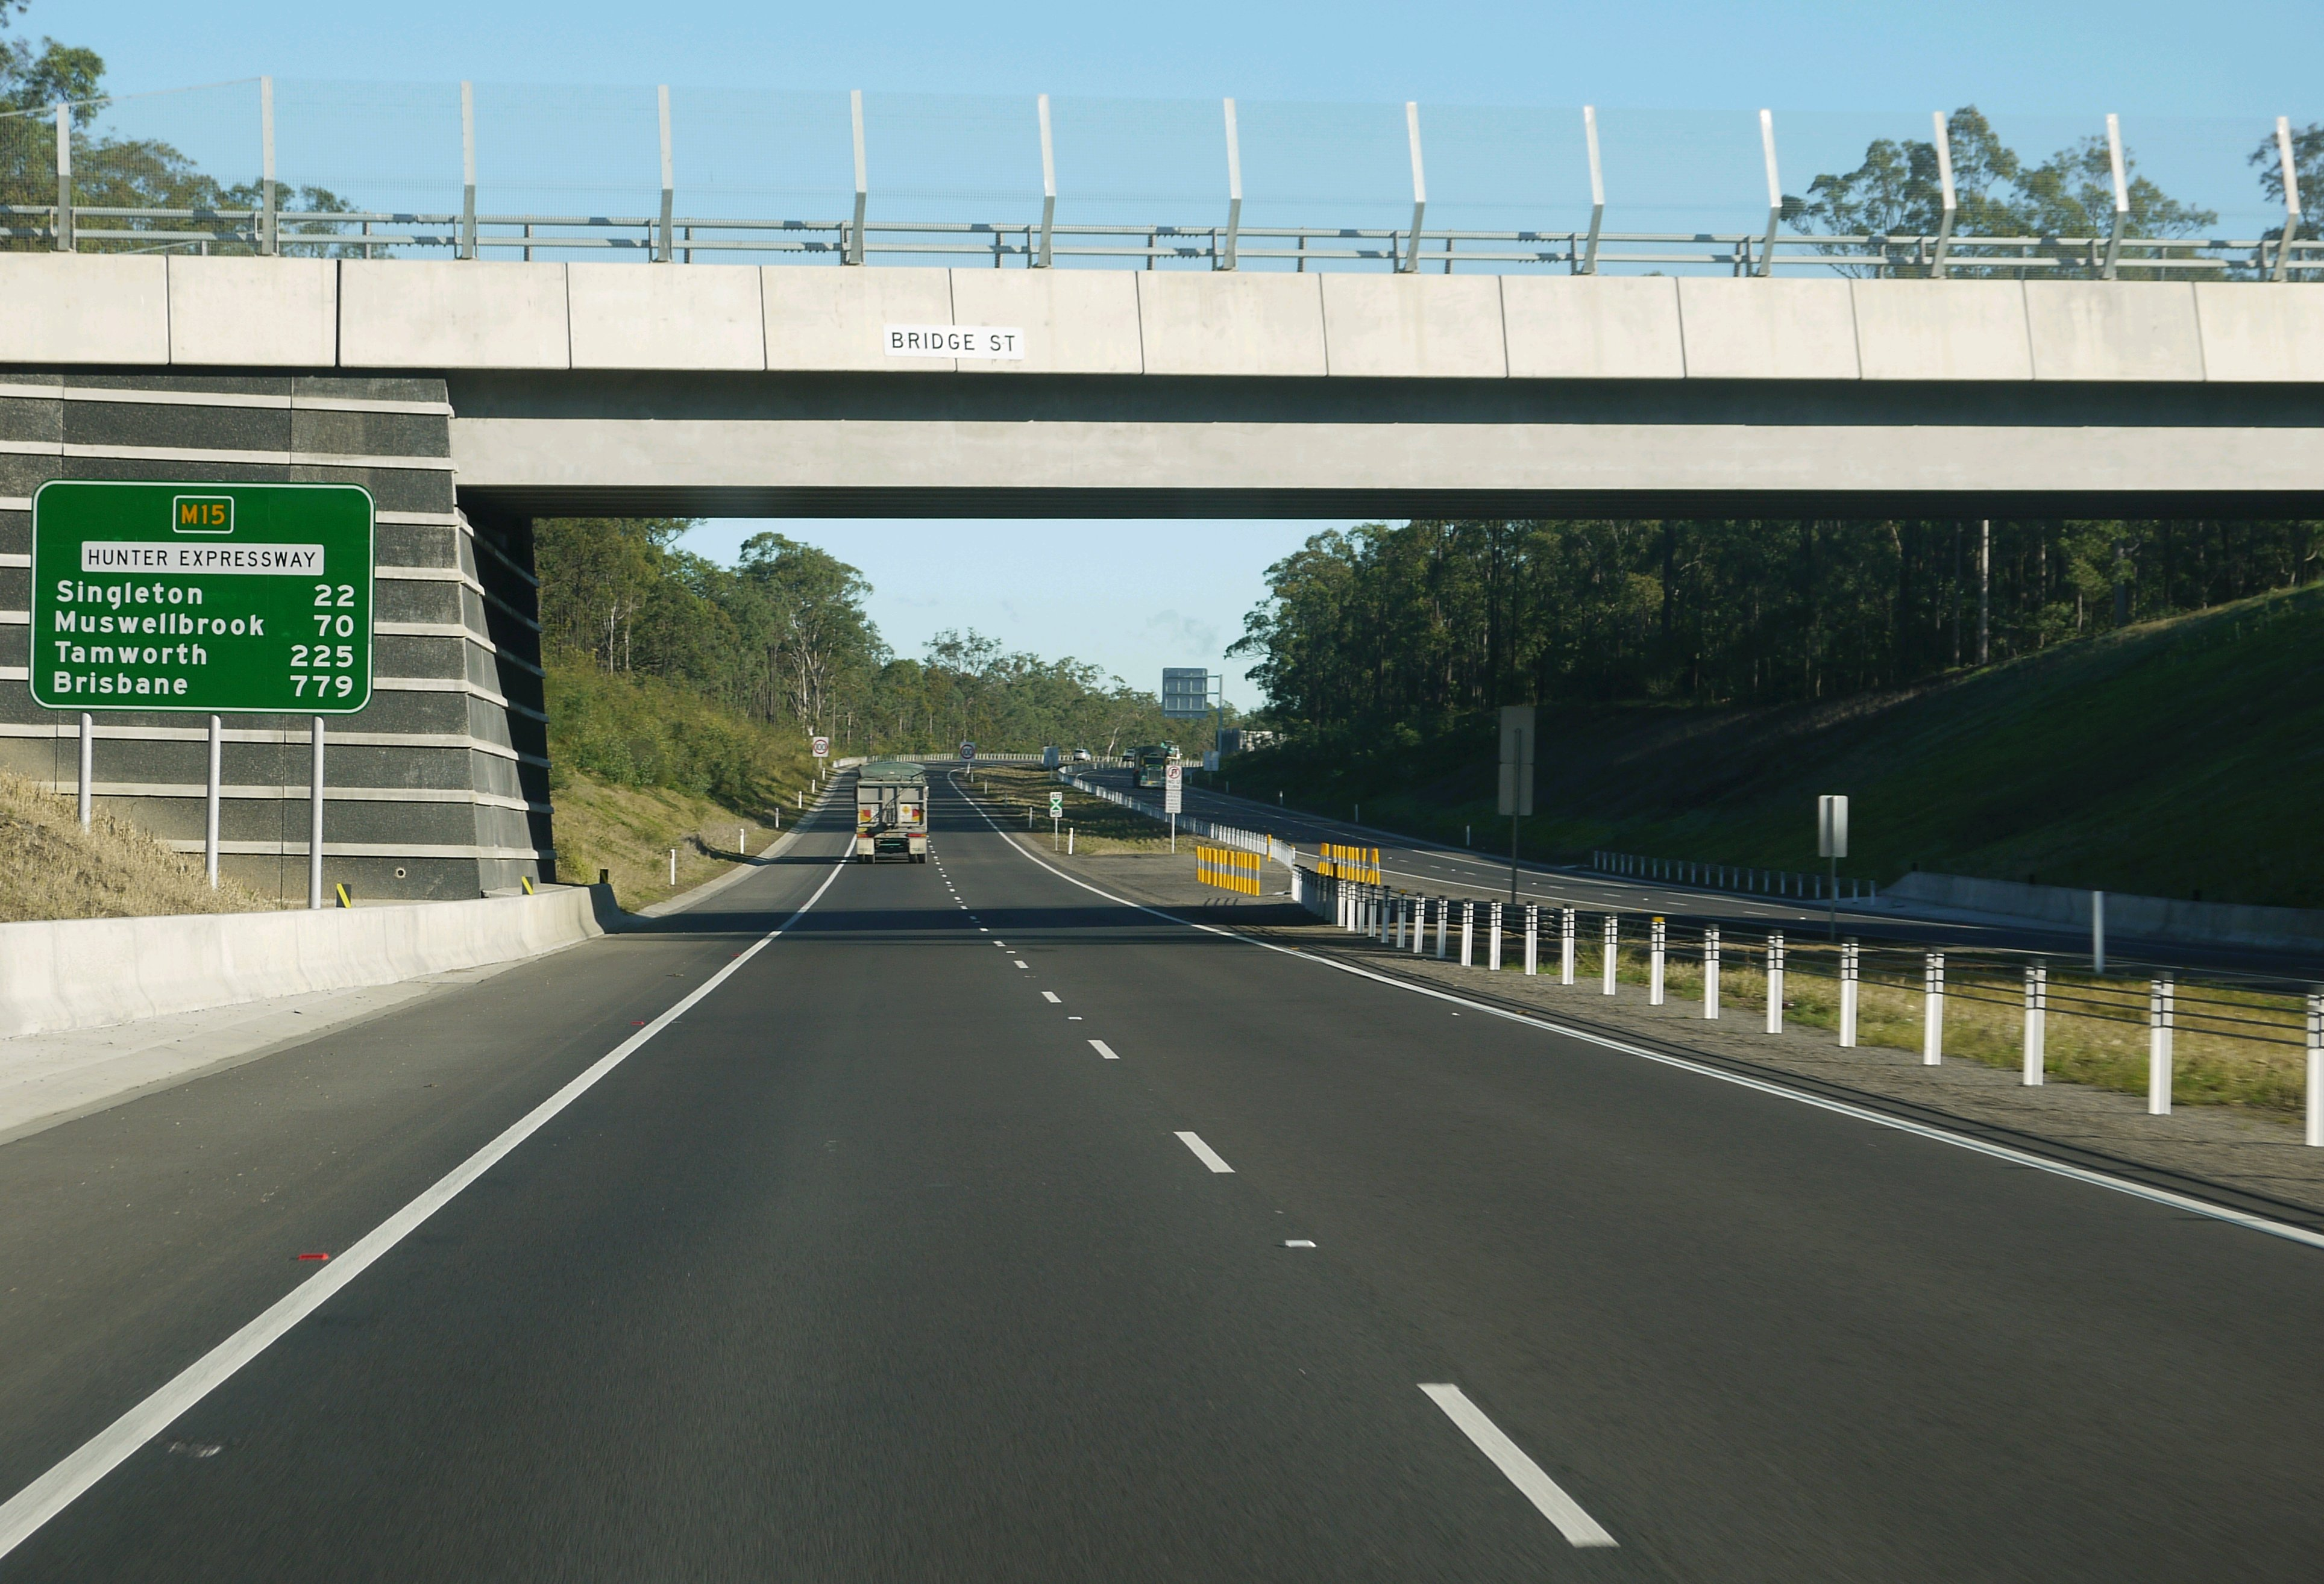bridge: (0, 111, 2319, 500)
